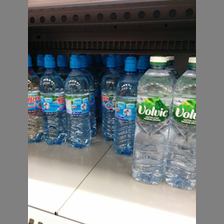water: (132, 55, 172, 185), (167, 56, 196, 189), (40, 54, 66, 146), (65, 55, 90, 149), (117, 54, 137, 156), (100, 55, 119, 142)
